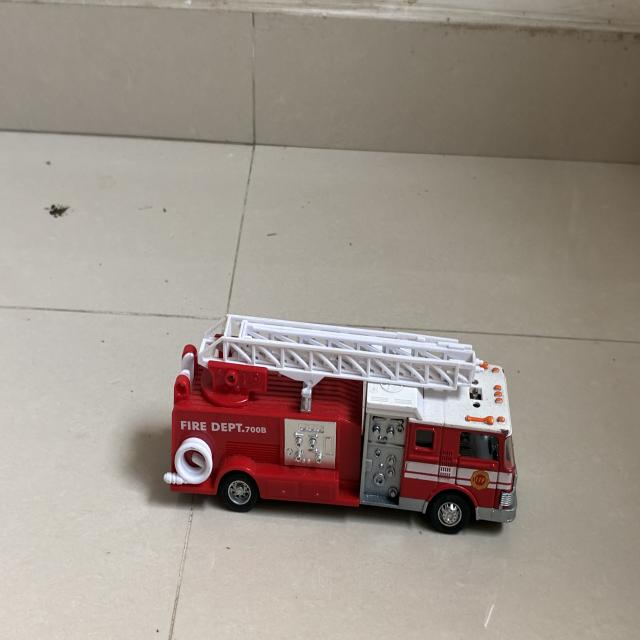fire-truck: (164, 314, 517, 533)
